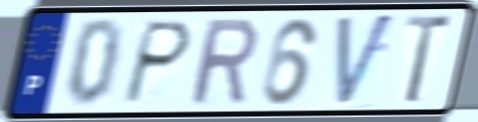0: (66, 16, 126, 110)
6: (259, 15, 321, 108)
P: (119, 19, 195, 107)
R: (188, 15, 259, 109)
T: (402, 13, 456, 107)
V: (335, 9, 399, 111)
